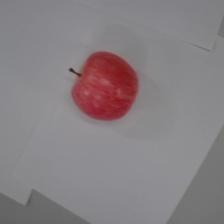red: (68, 49, 140, 122)
